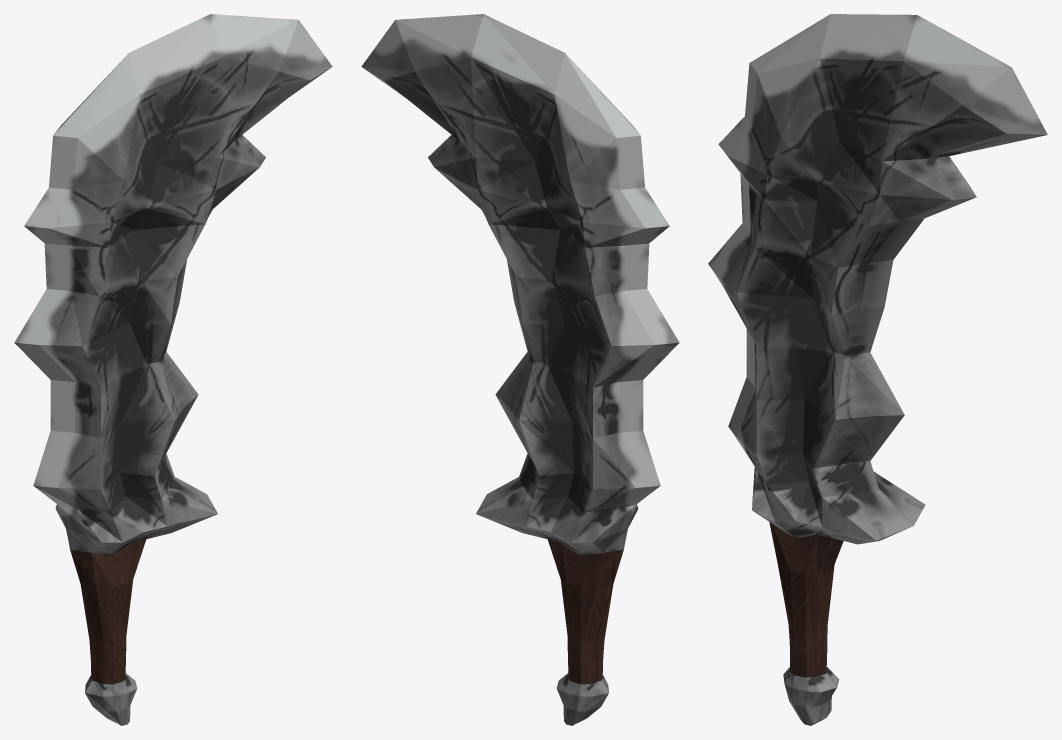
File: Thorn Sword.fbx
3 views of the same model, side by side, from view 1: azimuth 30°, elevation 25°; view 2: azimuth 150°, elevation 25°; view 3: azimuth 330°, elevation 25° (orthographic). The views are drawn at different scales.
Visible parts, largest first — view 1: Thorn_Sword; view 2: Thorn_Sword; view 3: Thorn_Sword.
Part boxes in pixels (box(x1,y1,x2,y2)): Thorn_Sword: box(14, 14, 332, 725); Thorn_Sword: box(361, 14, 679, 725); Thorn_Sword: box(708, 14, 1047, 725).
Bounding box in the file's own units: 173 × 355 × 43.57.
